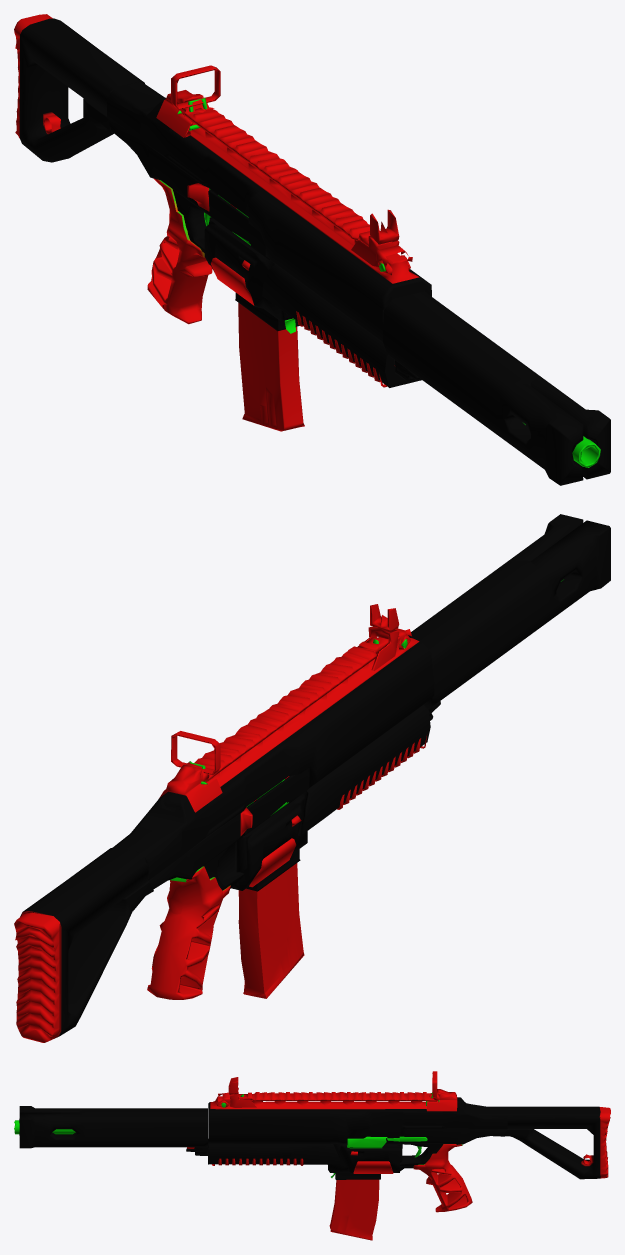
The model's file is SM_Rifle.FBX.
The picture shows the model from 3 angles, top to bottom: view 1: azimuth 30°, elevation 25°; view 2: azimuth 150°, elevation 25°; view 3: azimuth 270°, elevation 25°; orthographic projection. The views are drawn at different scales.
Visible parts, largest first — view 1: SM_Rifle; view 2: SM_Rifle; view 3: SM_Rifle.
Boxes of the visible parts, left/top/right/bottom form: SM_Rifle: left=14, top=14, right=610, bottom=485; SM_Rifle: left=14, top=514, right=610, bottom=1042; SM_Rifle: left=14, top=1071, right=610, bottom=1240.
Bounding box in the file's own units: 5.94 × 97.03 × 29.02.
